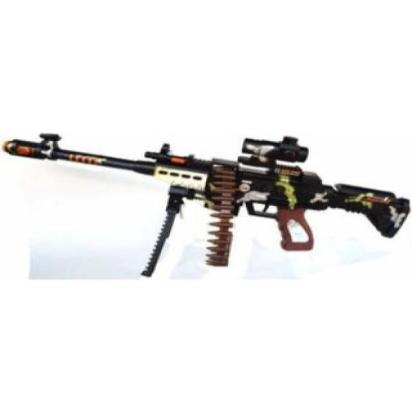Gun: (1, 112, 411, 276)
